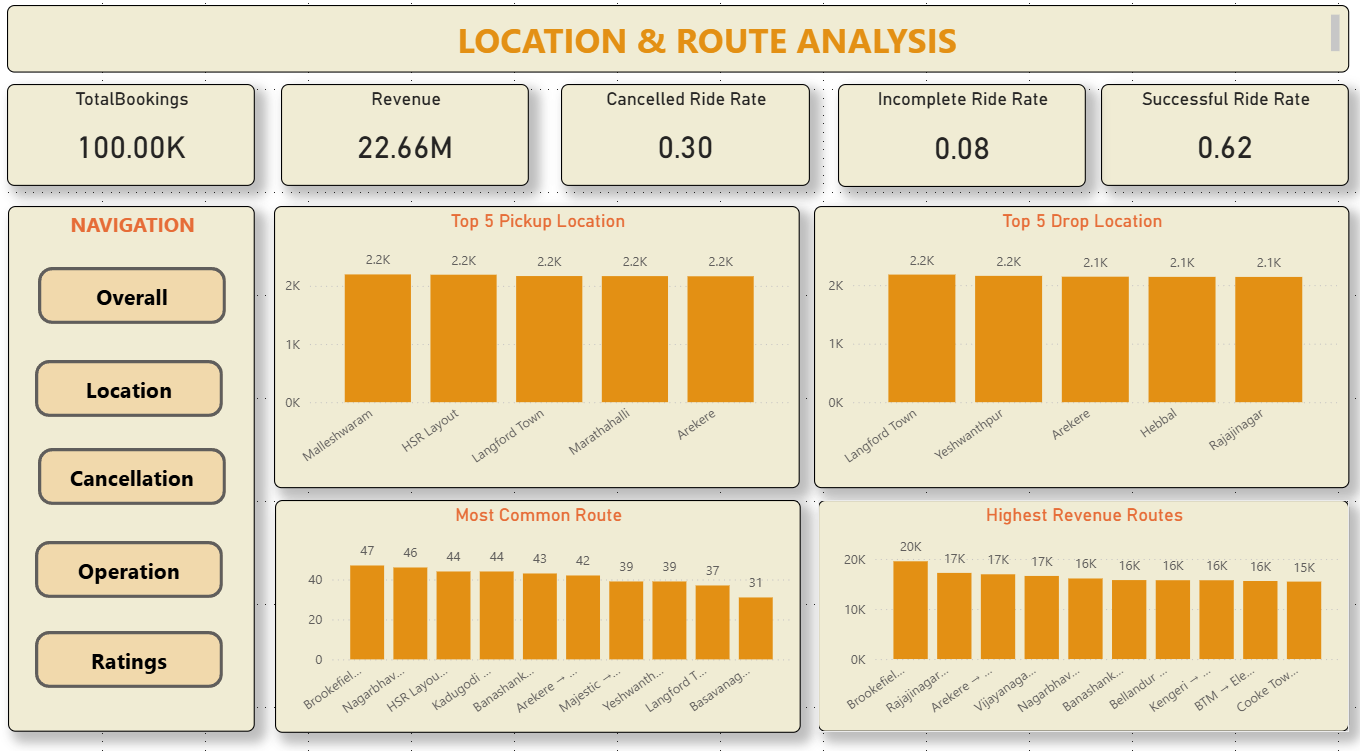

What the dashboard file says about the page in this screenshot:
{"tool":"powerbi","page":{"name":"Location And Route","canvas":[1280,720],"ordinal":1},"visuals":[{"type":"card","title":"Revenue","fields":{"Values":["Sum(Bangalore_Ride_Bookings.Booking Value)"]},"box":[262.8,91.3,231.1,95.1],"z":0},{"type":"card","title":"TotalBookings","fields":{"Values":["Count(Bangalore_Ride_Bookings.Booking ID)"]},"box":[7.5,91.3,231.1,95.1],"z":1000},{"type":"card","title":"Successful Ride Rate","fields":{"Values":["Bangalore_Ride_Bookings.Success Rate %"]},"box":[1027.1,91.3,231.1,95.1],"z":2000},{"type":"card","title":"Incomplete Ride Rate","fields":{"Values":["Bangalore_Ride_Bookings.Incomplete Rate %"]},"box":[782,91.3,231.1,96],"z":3000},{"type":"card","title":"Cancelled Ride Rate","fields":{"Values":["Bangalore_Ride_Bookings.Cancellation Rate %"]},"box":[523.8,91.3,232.1,95.1],"z":4000},{"type":"textbox","box":[7.5,17.7,1250.8,63.4],"z":5000},{"type":"textbox","title":"NAVIGATION","box":[8.4,205,230.2,490.3],"z":6000},{"type":"columnChart","title":"Top 5 Pickup Location","fields":{"Category":["Bangalore_Ride_Bookings.Pickup Location"],"Y":["CountNonNull(Bangalore_Ride_Bookings.Booking ID)"]},"box":[256.3,205,490.3,262.8],"z":7000},{"type":"columnChart","title":"Top 5 Drop Location","fields":{"Category":["Bangalore_Ride_Bookings.Drop Location"],"Y":["CountNonNull(Bangalore_Ride_Bookings.Booking ID)"]},"box":[759.6,205,498.6,262.8],"z":8000},{"type":"columnChart","title":"Most Common Route","fields":{"Category":["Bangalore_Ride_Bookings.Route"],"Y":["Bangalore_Ride_Bookings.Successful Rides"]},"box":[257.1,478.9,489.6,216.5],"z":9000},{"type":"columnChart","title":"Highest Revenue Routes ","fields":{"Category":["Bangalore_Ride_Bookings.Route"],"Y":["Sum(Bangalore_Ride_Bookings.Booking Value)"]},"box":[763.3,479.1,494.9,216.2],"z":10000},{"type":"actionButton","box":[33.6,348.6,175.2,53.1],"z":10001},{"type":"actionButton","box":[36.3,430.6,175.2,53.1],"z":10002},{"type":"actionButton","box":[33.6,517.3,175.2,53.1],"z":10003},{"type":"actionButton","box":[33.6,601.2,175.2,53.1],"z":10004},{"type":"actionButton","box":[36.3,261.9,175.2,53.1],"z":10005}]}

Visuals, with their boxes in screenshot pixels (x1, y1, x2, y2), scaled from the page's 1280x720 canvas onto the 1360x751 screenshot:
"Revenue" card: region(279, 95, 525, 194)
"TotalBookings" card: region(8, 95, 254, 194)
"Successful Ride Rate" card: region(1091, 95, 1337, 194)
"Incomplete Ride Rate" card: region(831, 95, 1076, 195)
"Cancelled Ride Rate" card: region(557, 95, 803, 194)
textbox: region(8, 18, 1337, 85)
"NAVIGATION" textbox: region(9, 214, 254, 725)
"Top 5 Pickup Location" columnChart: region(272, 214, 793, 488)
"Top 5 Drop Location" columnChart: region(807, 214, 1337, 488)
"Most Common Route" columnChart: region(273, 500, 793, 725)
"Highest Revenue Routes " columnChart: region(811, 500, 1337, 725)
actionButton: region(36, 364, 222, 419)
actionButton: region(39, 449, 225, 505)
actionButton: region(36, 540, 222, 595)
actionButton: region(36, 627, 222, 682)
actionButton: region(39, 273, 225, 329)
